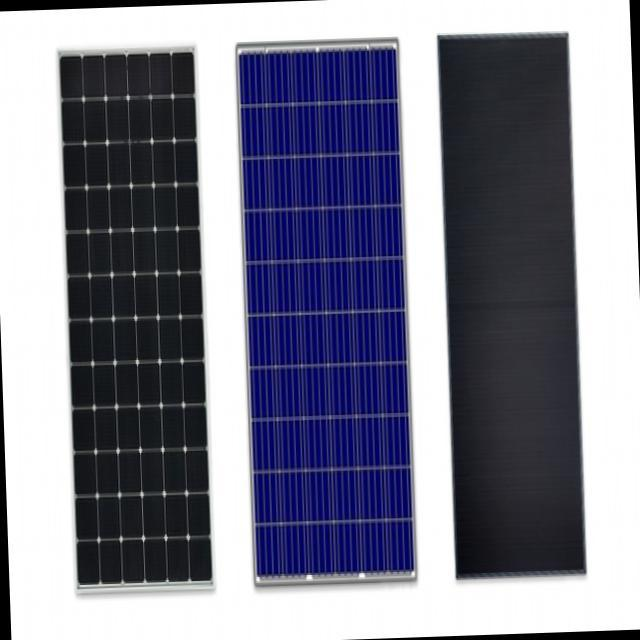no faulty: (237, 52, 420, 588), (59, 57, 214, 589), (436, 36, 585, 579)
